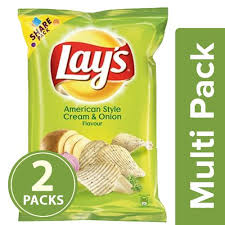lays-large: (18, 9, 161, 223)
